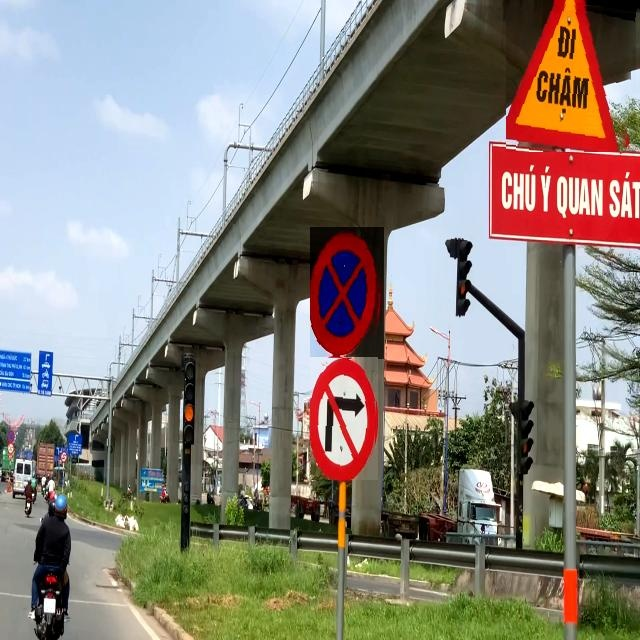bien_cam: (506, 0, 636, 152), (310, 227, 384, 359), (311, 357, 378, 480)
